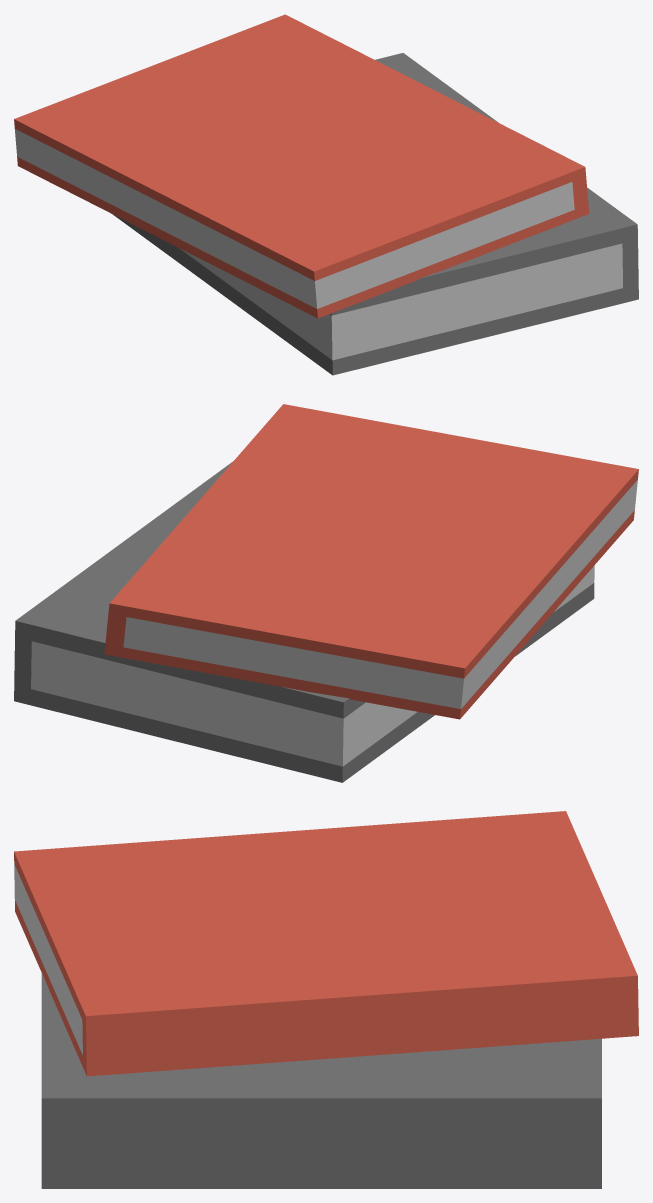
The model's file is SM_Book_02.fbx.
The picture shows the model from 3 angles, top to bottom: view 1: azimuth 30°, elevation 25°; view 2: azimuth 150°, elevation 25°; view 3: azimuth 270°, elevation 25°; orthographic projection. The views are drawn at different scales.
Parts seen in each view (by area): view 1: SM_Book_02; view 2: SM_Book_02; view 3: SM_Book_02.
Part boxes in pixels (x1,y1,x2,y2): SM_Book_02: (14,14,638,375); SM_Book_02: (14,404,638,782); SM_Book_02: (14,811,638,1188).
Size of the model in its own units: 47.66 by 14.5 by 53.26.
